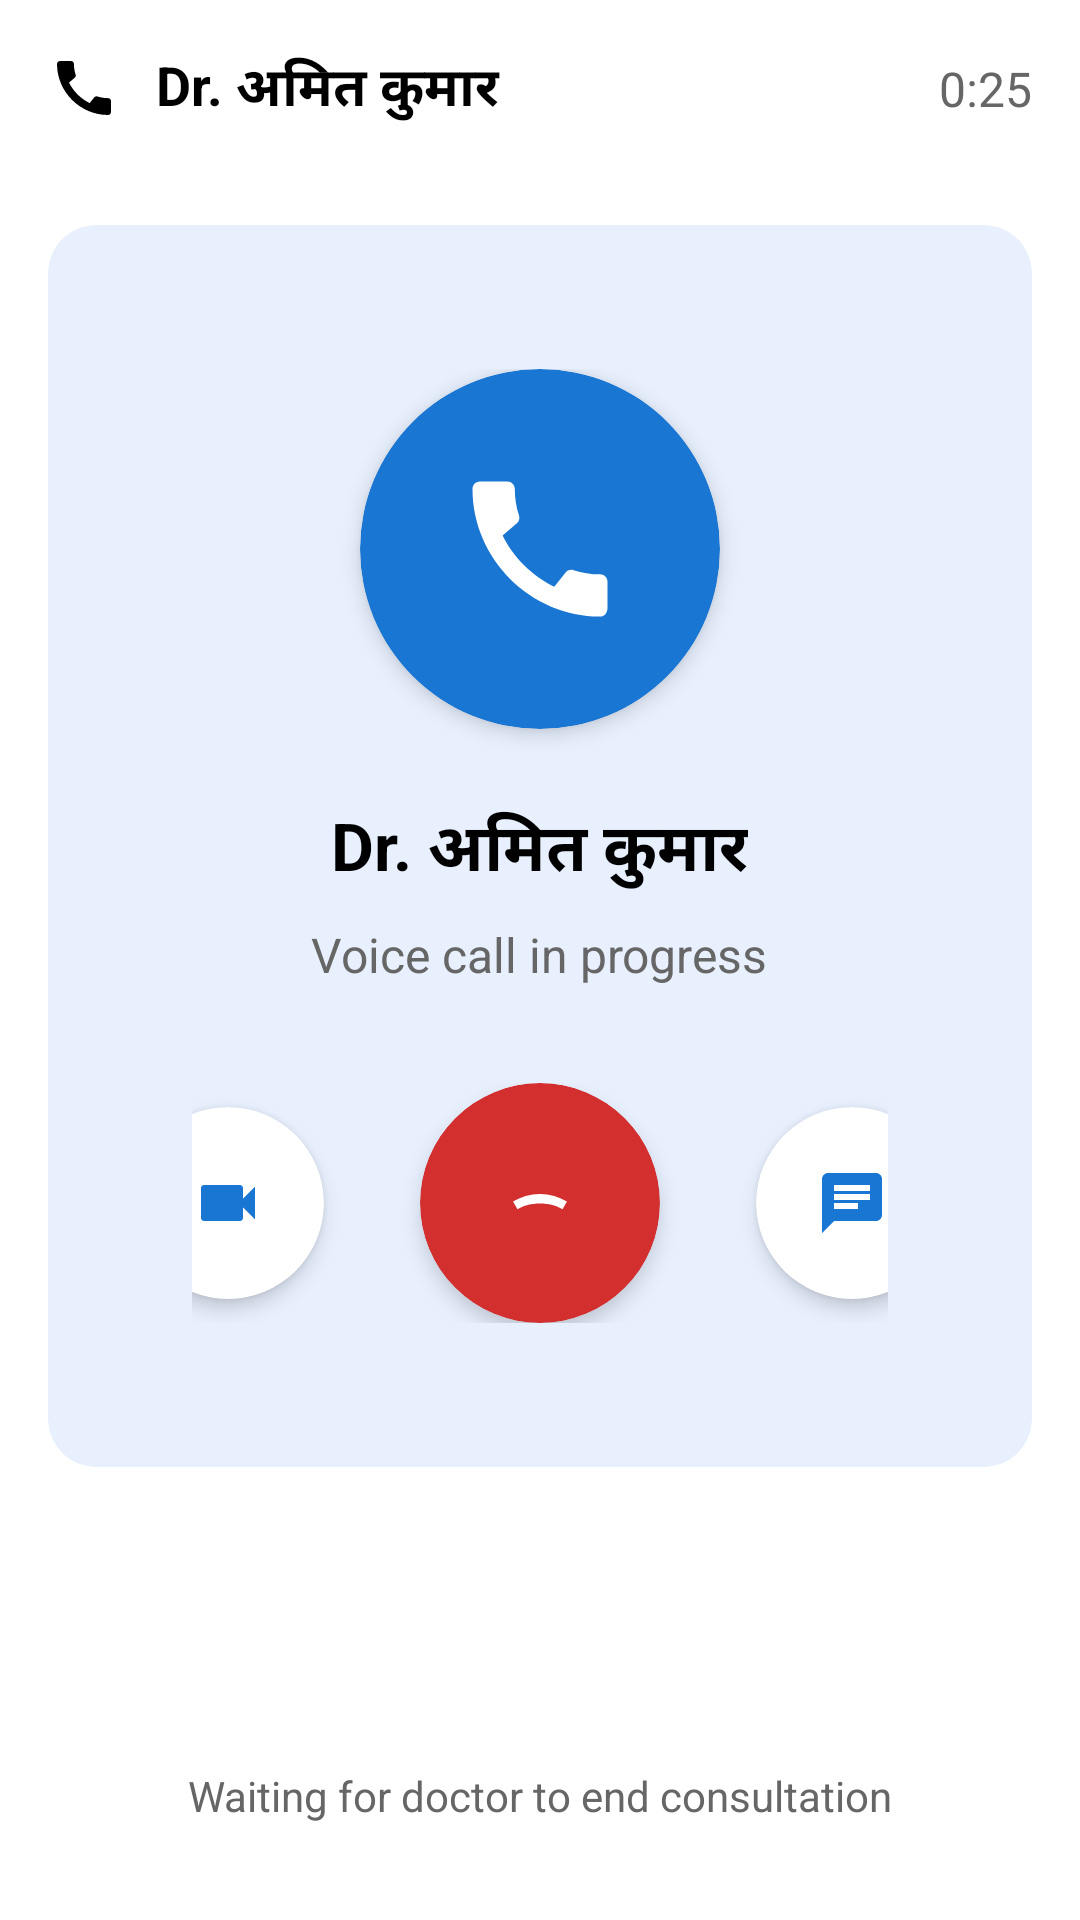

Icons on this 1080w x 1920h Android screen, each with its box as (x1, y1, x2, y2):
call: (57, 61, 111, 115), (472, 481, 608, 617)
call end: (420, 1083, 660, 1323)
